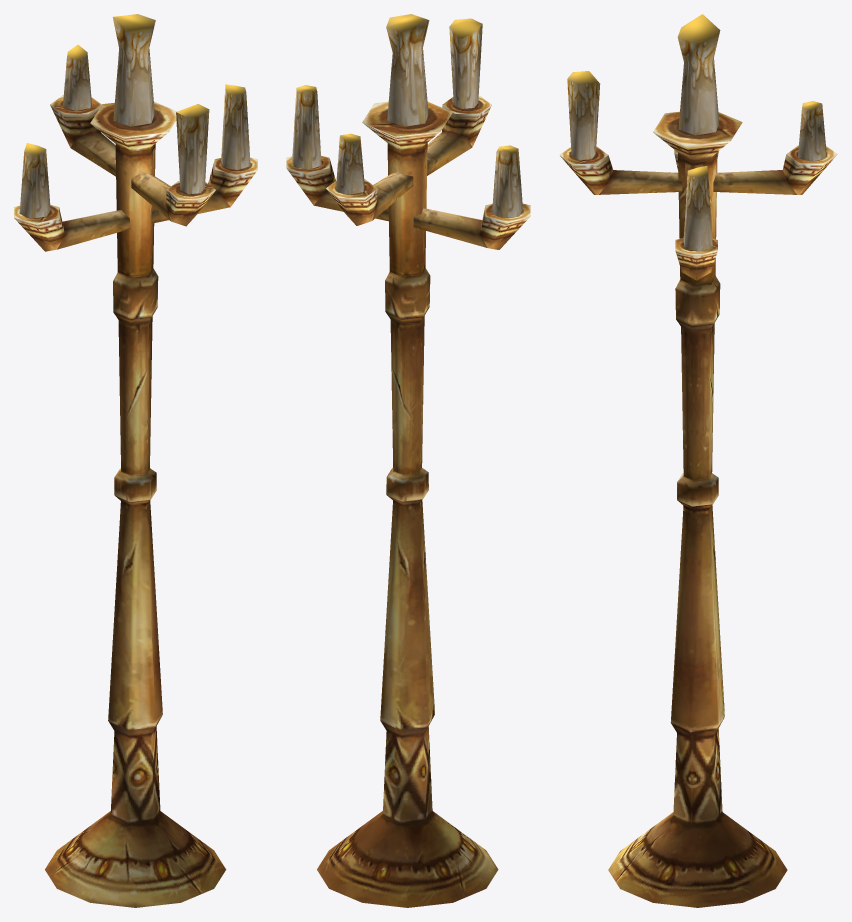
The model's file is candelabratallwall02.obj.
3 renders of one model, left to right at view 1: azimuth 30°, elevation 25°; view 2: azimuth 150°, elevation 25°; view 3: azimuth 270°, elevation 25°, orthographic.
Visible parts, largest first — view 1: candelabratallwall02.m2; view 2: candelabratallwall02.m2; view 3: candelabratallwall02.m2.
Boxes of the visible parts, box(x1,y1,x2,y2) form: candelabratallwall02.m2: box(14, 14, 257, 907); candelabratallwall02.m2: box(286, 14, 530, 907); candelabratallwall02.m2: box(559, 14, 837, 907).
Size of the model in its own units: 1.2 by 4.04 by 1.2.
1 material, 1 textured.
